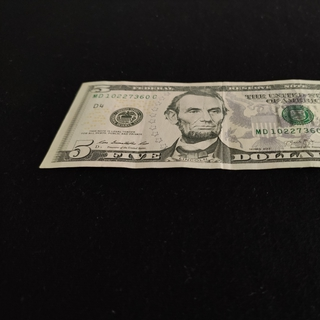5USDFront: (38, 79, 320, 172)
